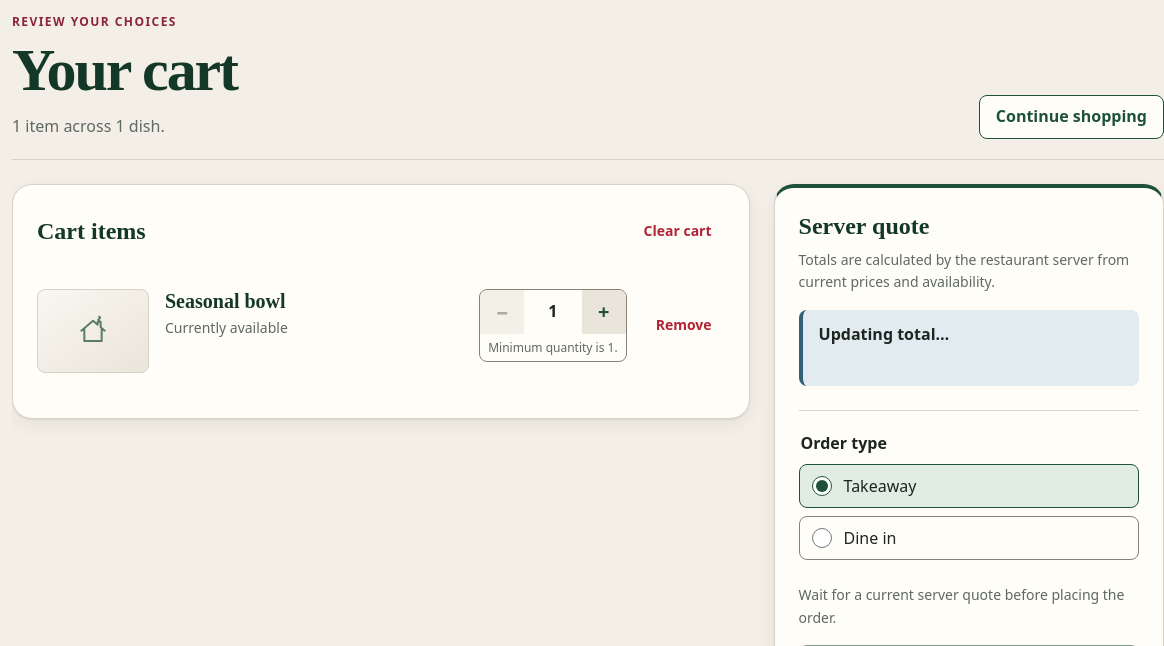
Test: CartPage › aborts and ignores a stale response after the cart changes
Click the button named "Increase quantity for Seasonal bowl" at (604, 312), box top-left (582, 290), bottom-right (626, 334)
Wait 400 ms
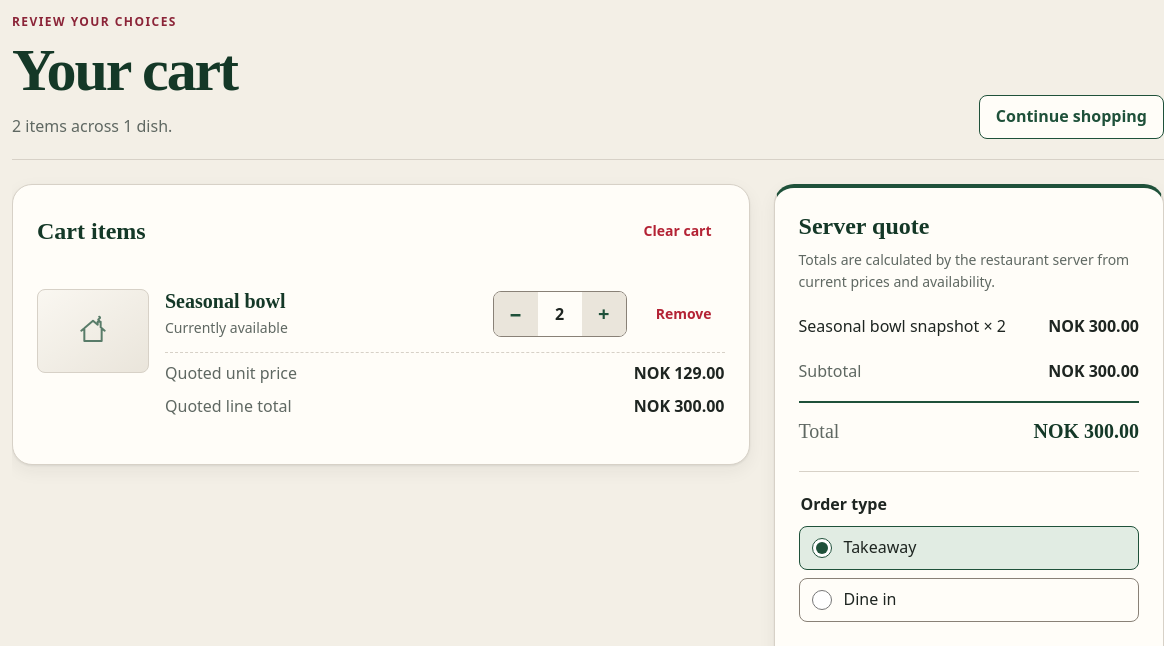
Now the text "Seasonal bowl snapshot × 2" is shown, box top-left (798, 314), bottom-right (1006, 339)
